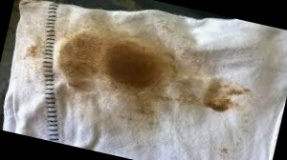earth: (58, 29, 169, 100), (203, 77, 238, 112)
